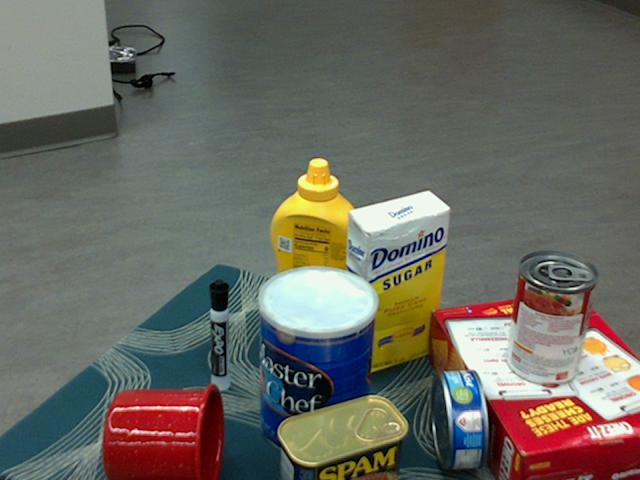cracker_box: (425, 294, 639, 479)
large_marker: (208, 278, 228, 390)
master_chef_can: (259, 267, 379, 461)
mug: (102, 383, 223, 479)
mustard_bottle: (269, 158, 363, 339)
potted_meat_can: (277, 395, 408, 479)
sugar_box: (340, 192, 451, 377)
tomato_soup_can: (505, 252, 596, 387)
tuna_fish_can: (432, 369, 489, 469)
